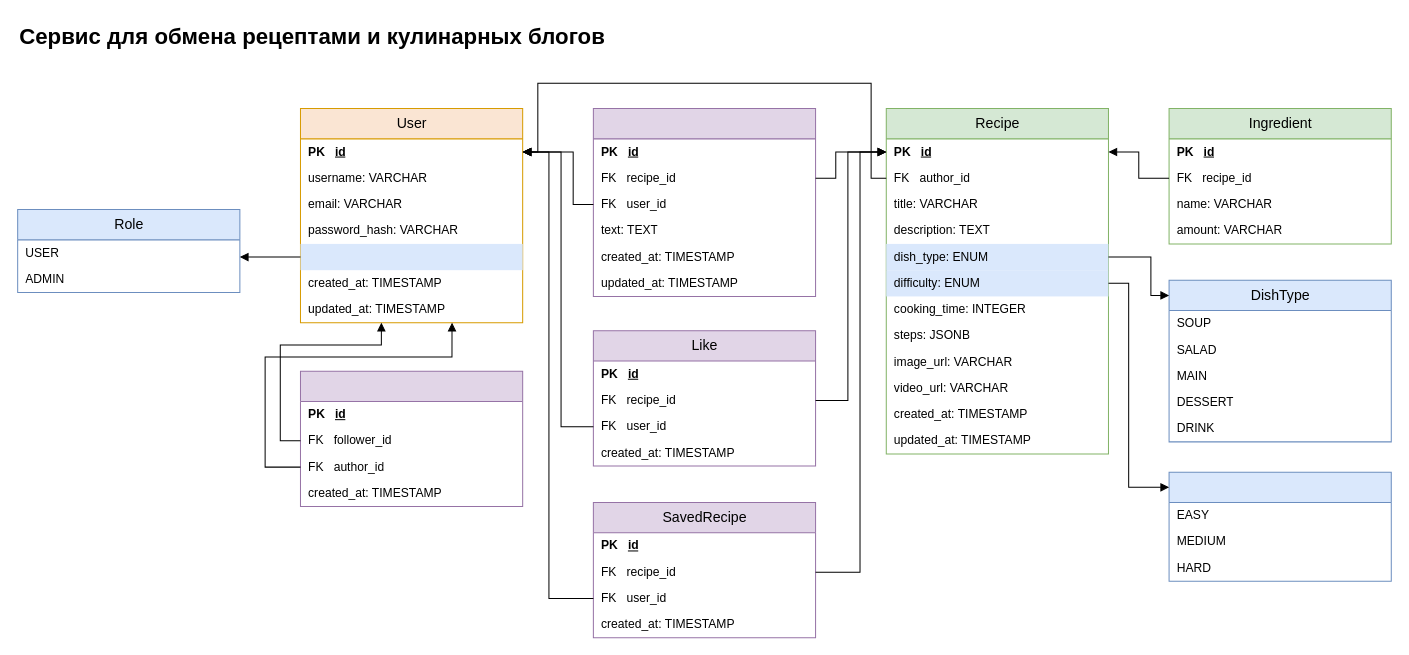
The diagram is 1409 pixels wide and 655 high, and some of its shapes have lost their labels. The shapes that lost their labels are listed below. From the top down, each one's box as (x1, y1, x2, y2) in pixels, then its label:
(592, 108, 816, 296): Comment
(300, 243, 522, 270): role: ENUM
(299, 370, 523, 507): Subscription
(1168, 471, 1391, 581): Difficulty
